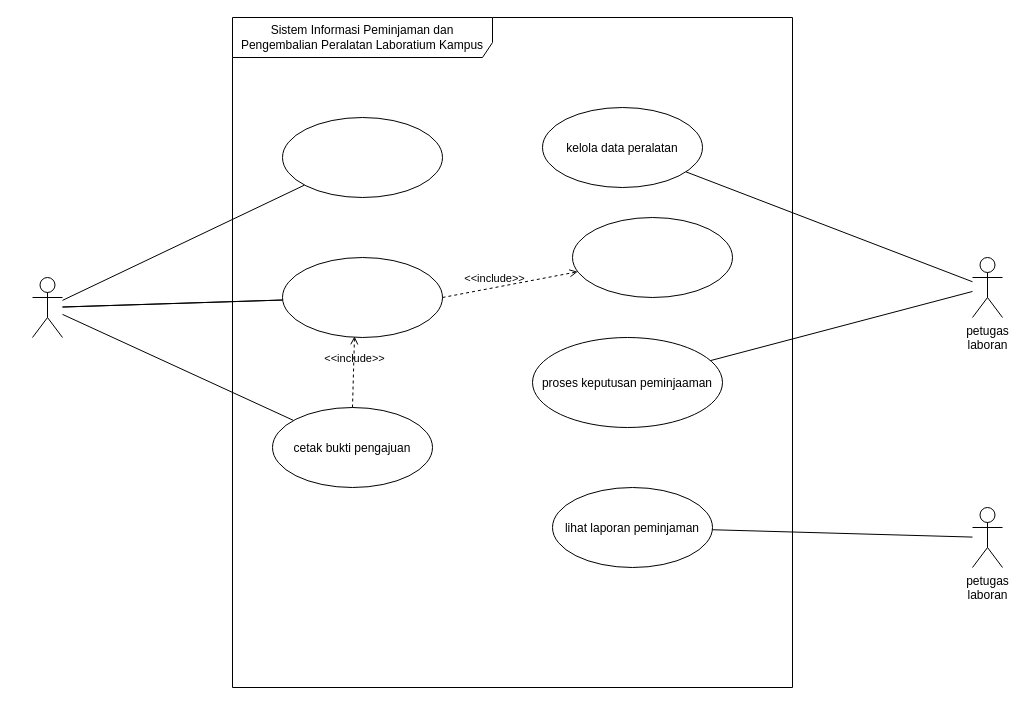
Image size: 1026x705. Some labels were removed from this diagram. Here are the shapes that lost their labels. From the top down, the centre of each, then its label:
(362,157): lihat ketersediaaan peralatan
(652,257): periksa ketersediaan
(47,307): mahasiswa
(362,297): ajukan peminjaman
